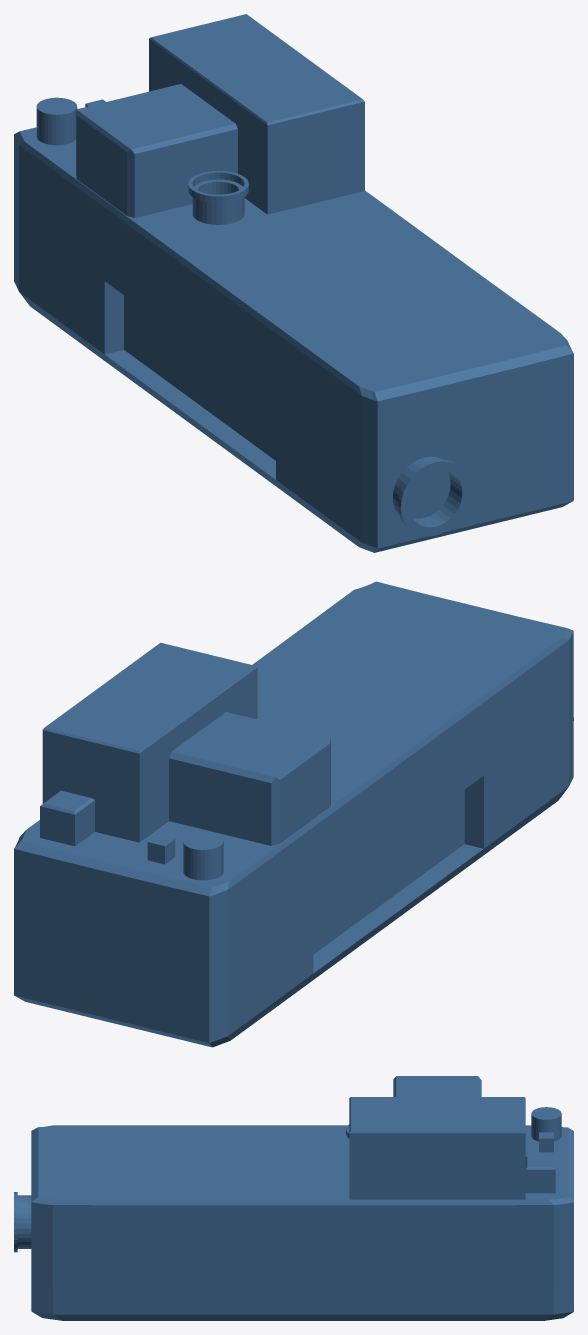
Rendered from sanicondens-best-flat.glb.
3 views of the same model, one above another, from view 1: azimuth 30°, elevation 25°; view 2: azimuth 150°, elevation 25°; view 3: azimuth 270°, elevation 25° (orthographic). The views are drawn at different scales.
Parts seen in each view (by area): view 1: Product6; view 2: Product6; view 3: Product6.
Part boxes in pixels (bbox=[...]): Product6: bbox=[14, 14, 573, 552]; Product6: bbox=[14, 581, 573, 1047]; Product6: bbox=[14, 1076, 573, 1320].
Bounding box in the file's own units: 0.6 × 0.6923 × 1.86.
